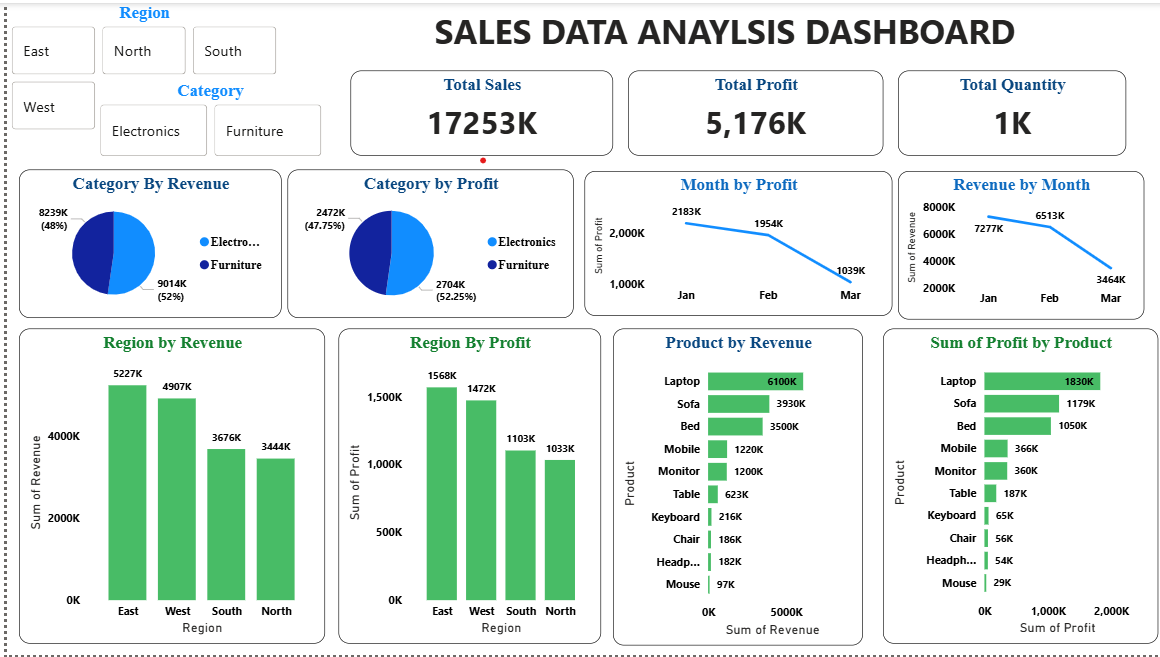

This screenshot's page, from the dashboard's own definition file:
{"tool":"powerbi","page":{"name":"Page 1","canvas":[1280,720],"ordinal":0},"visuals":[{"type":"textbox","box":[304,0,976,80],"z":0},{"type":"columnChart","title":" Region by Revenue ","fields":{"Category":["Table1.Region"],"Y":["Sum(Table1.Revenue)"]},"box":[14,360,338,348],"z":1000},{"type":"advancedSlicerVisual","fields":{"Values":["Table1.Category"]},"box":[98,86,254,88],"z":2000},{"type":"advancedSlicerVisual","fields":{"Values":["Table1.Region"]},"box":[0,0,304,146],"z":3000},{"type":"pieChart","title":"Category By Revenue ","fields":{"Category":["Table1.Category"],"Y":["Sum(Table1.Revenue)"]},"box":[14,184,290,164],"z":4000},{"type":"clusteredBarChart","title":"Product by Revenue ","fields":{"Category":["Table1.Product"],"Y":["Sum(Table1.Revenue)"]},"box":[670,360,276,350],"z":5000},{"type":"clusteredColumnChart","title":"Region By Profit ","fields":{"Category":["Table1.Region"],"Y":["Sum(Table1.Profit)"]},"box":[366,360,290,348],"z":5001},{"type":"lineChart","title":"Revenue by Month ","fields":{"Category":["Table1.Month "],"Y":["Sum(Table1.Revenue)"]},"box":[984,186,272,164],"z":5002},{"type":"lineChart","title":"Month by  Profit ","fields":{"Category":["Table1.Month "],"Y":["Sum(Table1.Profit)"]},"box":[638,186,340,160],"z":5003},{"type":"clusteredBarChart","fields":{"Category":["Table1.Product"],"Y":["Sum(Table1.Profit)"]},"box":[968,360,304,348],"z":5004},{"type":"pieChart","title":" Category by Profit ","fields":{"Category":["Table1.Category"],"Y":["Sum(Table1.Profit)"]},"box":[310,184,316,164],"z":5005},{"type":"card","title":"Total Sales ","fields":{"Values":["Sum(Table2.Total Sales )"]},"box":[380,74,290,94],"z":5006},{"type":"card","title":"Total Profit ","fields":{"Values":["Sum(Table1.Profit)"]},"box":[686,74,282,94],"z":5007},{"type":"card","title":"Total Quantity ","fields":{"Values":["Sum(Table2.Total Quntity )"]},"box":[984,74,252,94],"z":5008}]}

Visuals, with their boxes in screenshot pixels (x1, y1, x2, y2), scaled from the page's 1280x720 canvas onto the 1160x657 screenshot:
textbox: {"x1": 276, "y1": 0, "x2": 1159, "y2": 73}
" Region by Revenue " columnChart: {"x1": 13, "y1": 328, "x2": 319, "y2": 646}
advancedSlicerVisual - Table1.Category: {"x1": 89, "y1": 78, "x2": 319, "y2": 159}
advancedSlicerVisual - Table1.Region: {"x1": 0, "y1": 0, "x2": 276, "y2": 133}
"Category By Revenue " pieChart: {"x1": 13, "y1": 168, "x2": 276, "y2": 318}
"Product by Revenue " clusteredBarChart: {"x1": 607, "y1": 328, "x2": 857, "y2": 648}
"Region By Profit " clusteredColumnChart: {"x1": 332, "y1": 328, "x2": 594, "y2": 646}
"Revenue by Month " lineChart: {"x1": 892, "y1": 170, "x2": 1138, "y2": 319}
"Month by  Profit " lineChart: {"x1": 578, "y1": 170, "x2": 886, "y2": 316}
clusteredBarChart - Table1.Product x Sum(Table1.Profit): {"x1": 877, "y1": 328, "x2": 1153, "y2": 646}
" Category by Profit " pieChart: {"x1": 281, "y1": 168, "x2": 567, "y2": 318}
"Total Sales " card: {"x1": 344, "y1": 68, "x2": 607, "y2": 153}
"Total Profit " card: {"x1": 622, "y1": 68, "x2": 877, "y2": 153}
"Total Quantity " card: {"x1": 892, "y1": 68, "x2": 1120, "y2": 153}
